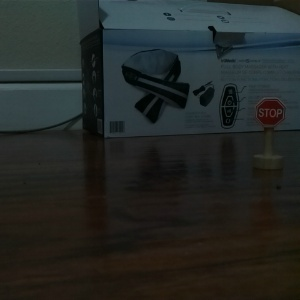stop sign: (250, 94, 288, 175)
